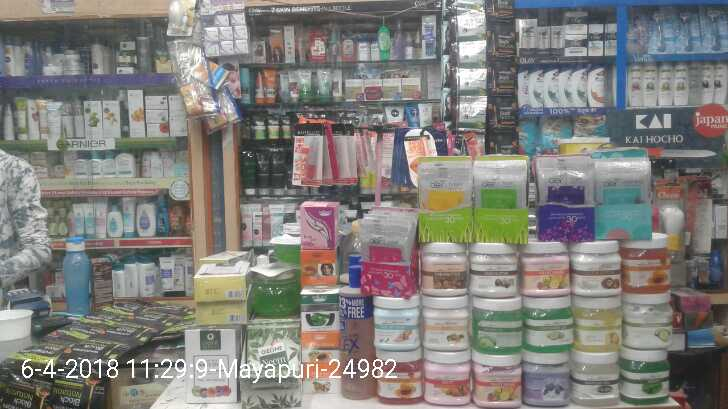venus: (645, 6, 674, 52), (674, 6, 700, 52), (700, 6, 726, 52)
